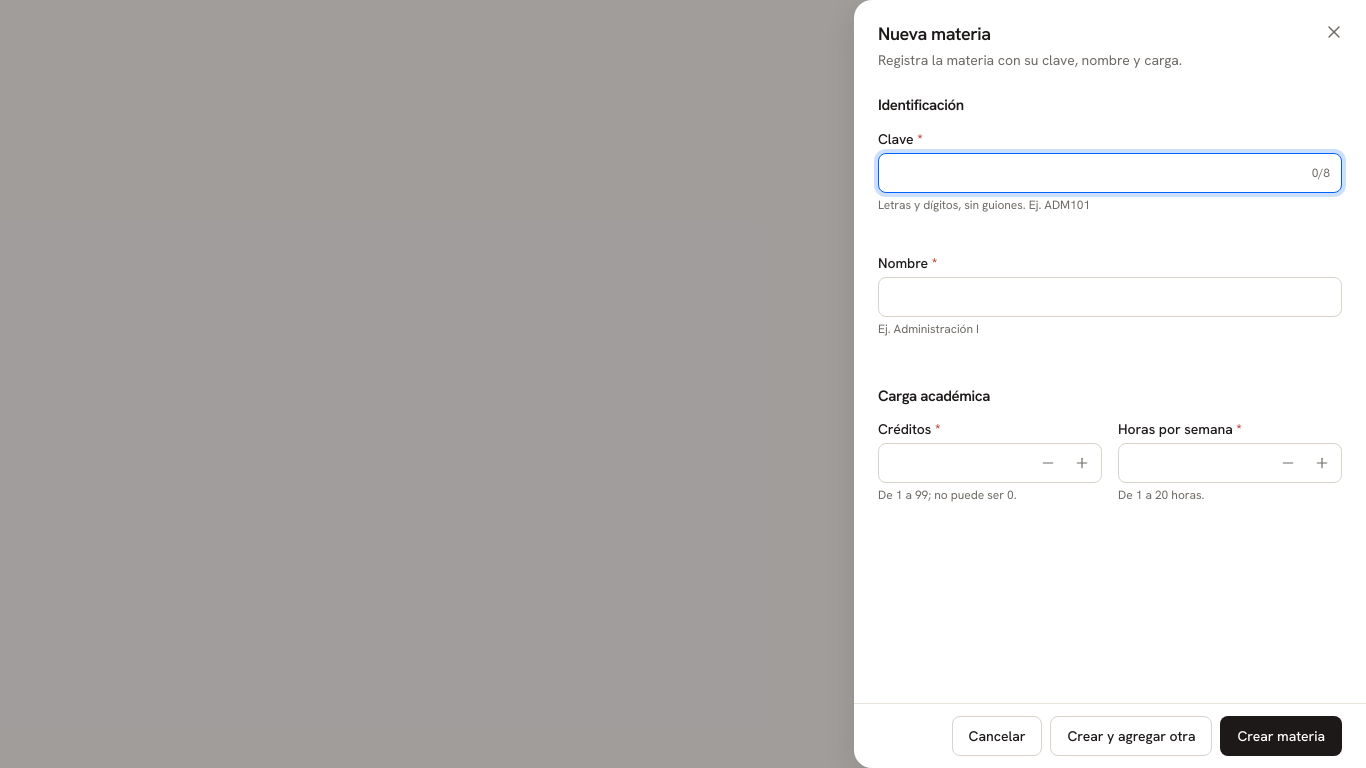
MateriaForm › «Crear y agregar otra» limpia el formulario y deja el foco en la clave
This screenshot has width=1366, height=768.
In the field labelled "Clave *": (1110, 172) [878,152,1342,192], type "adm101"
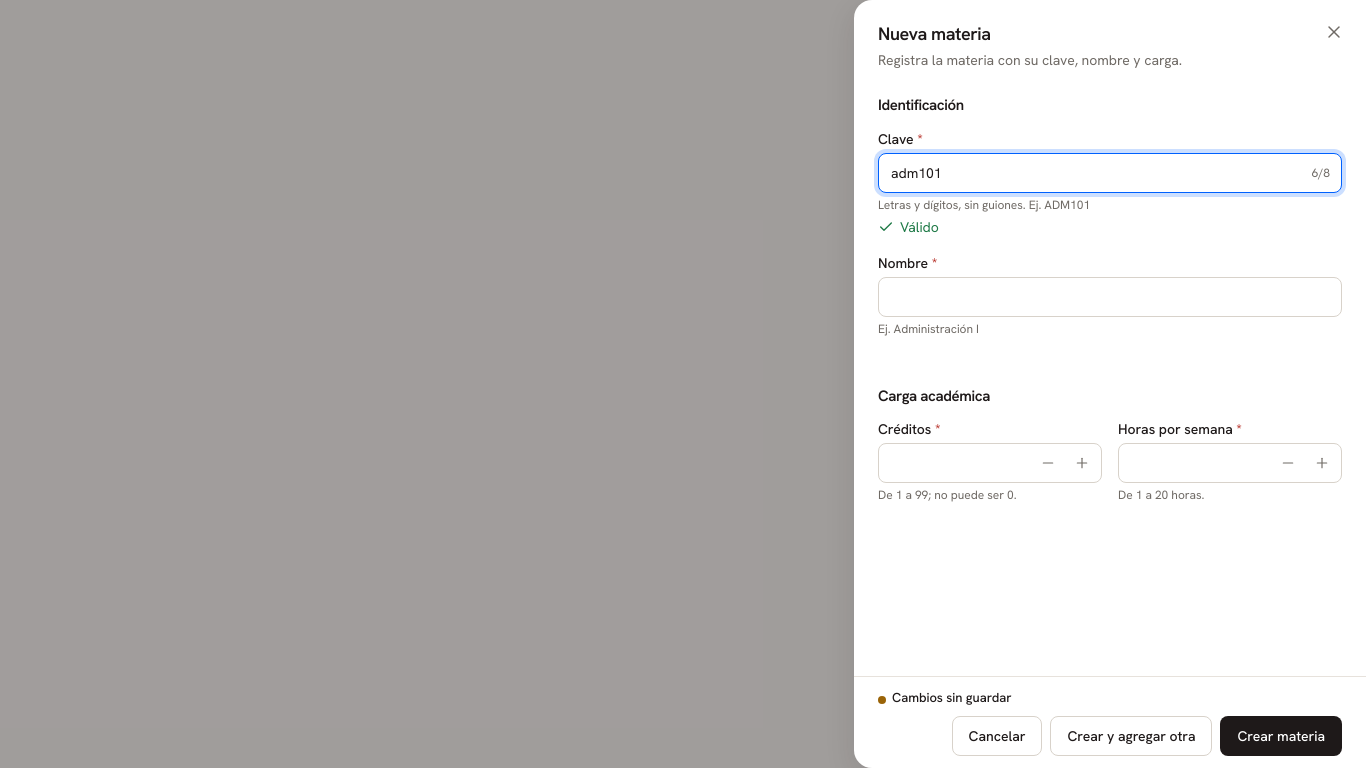
In the field labelled "Nombre *": (1110, 296) [878,276,1342,316], type "Administración I"
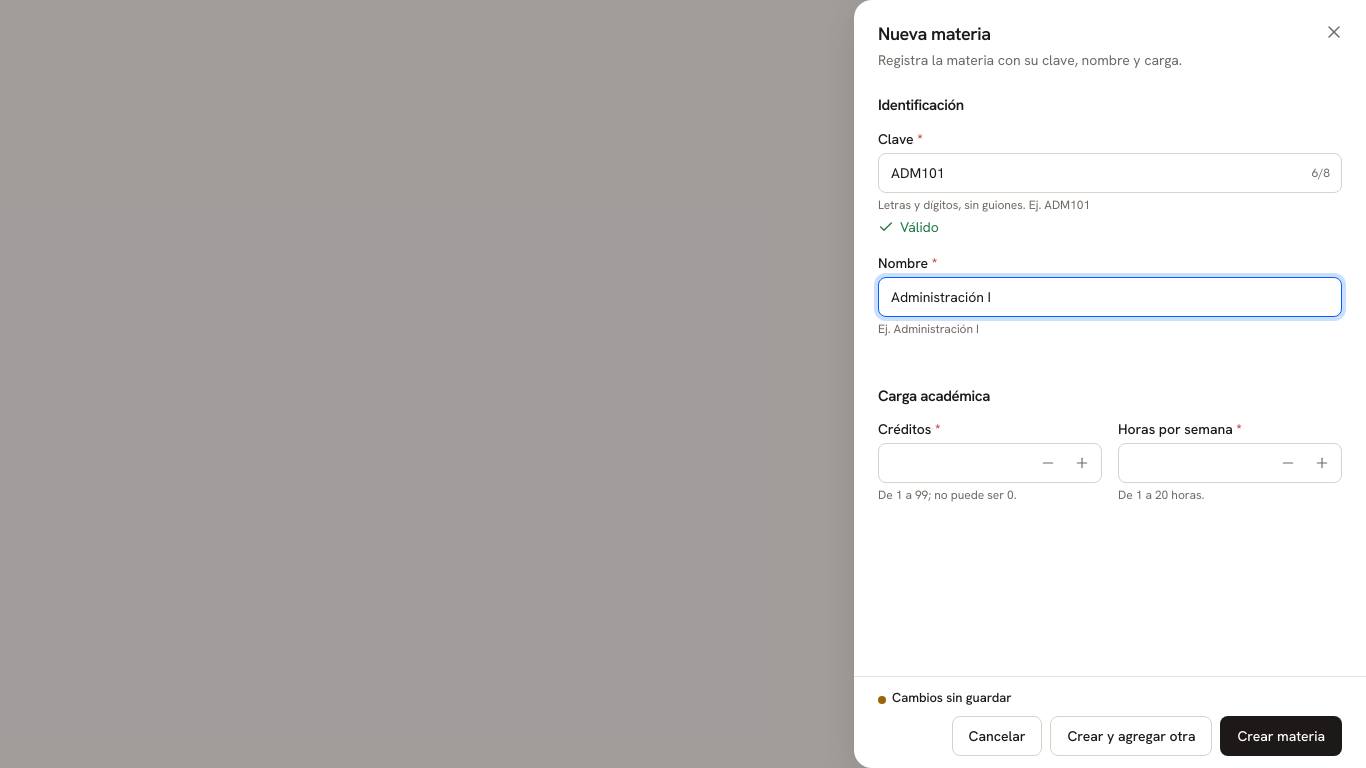
In the field labelled "Créditos *": (990, 463) [878,443,1102,483], type "8"
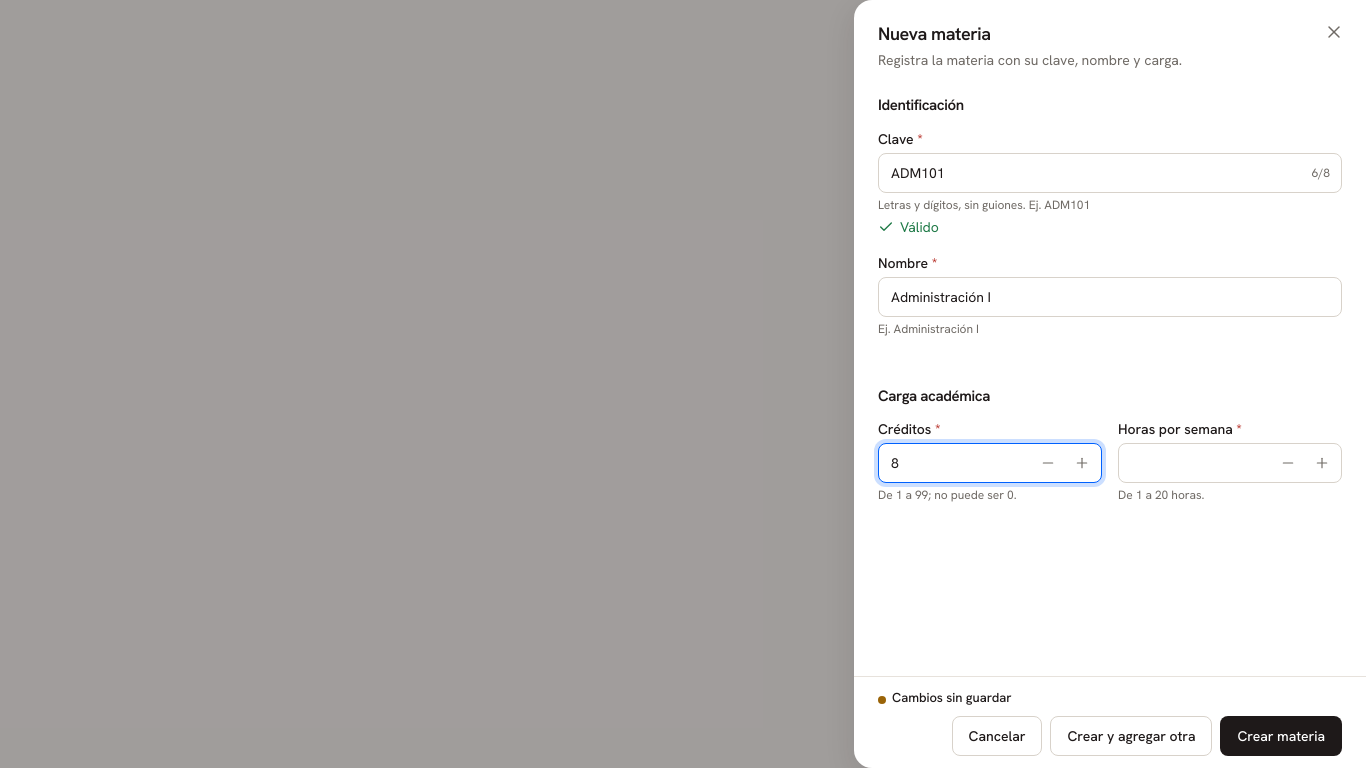
In the field labelled "Horas por semana *": (1230, 463) [1118,443,1342,483], type "4"
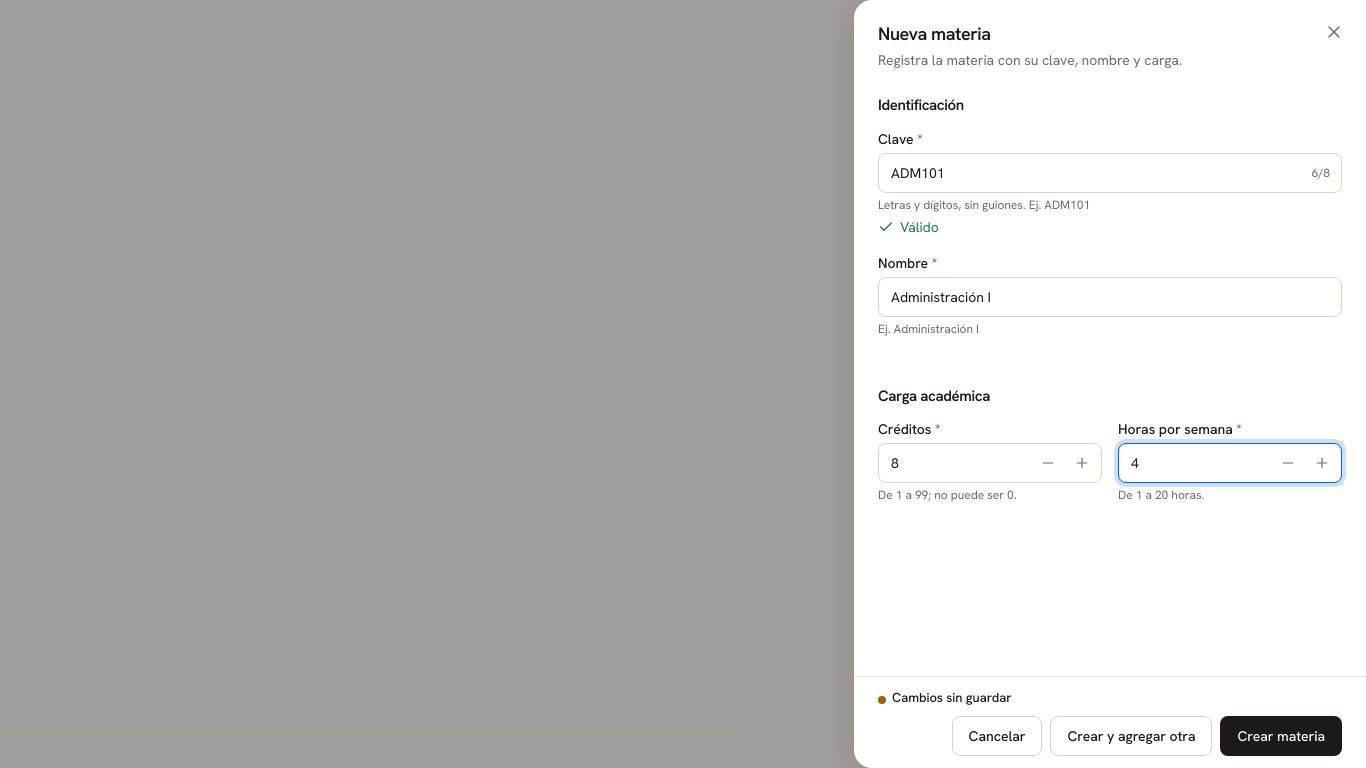
Click the button "Crear y agregar otra": (1131, 736) [1050,716,1212,756]
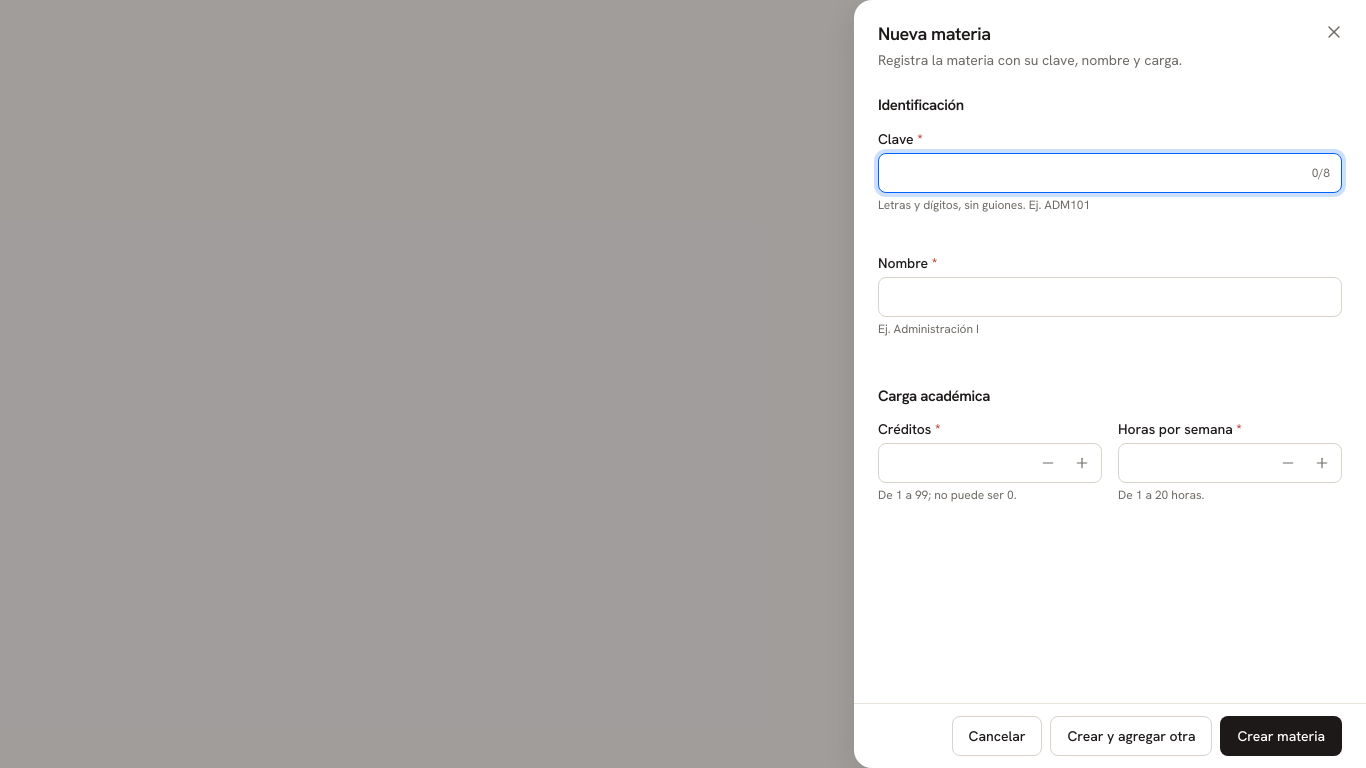
Expected: the field labelled "Nombre *" is empty, [878,276,1342,316]
Expected: the text "sin guardar" is gone
